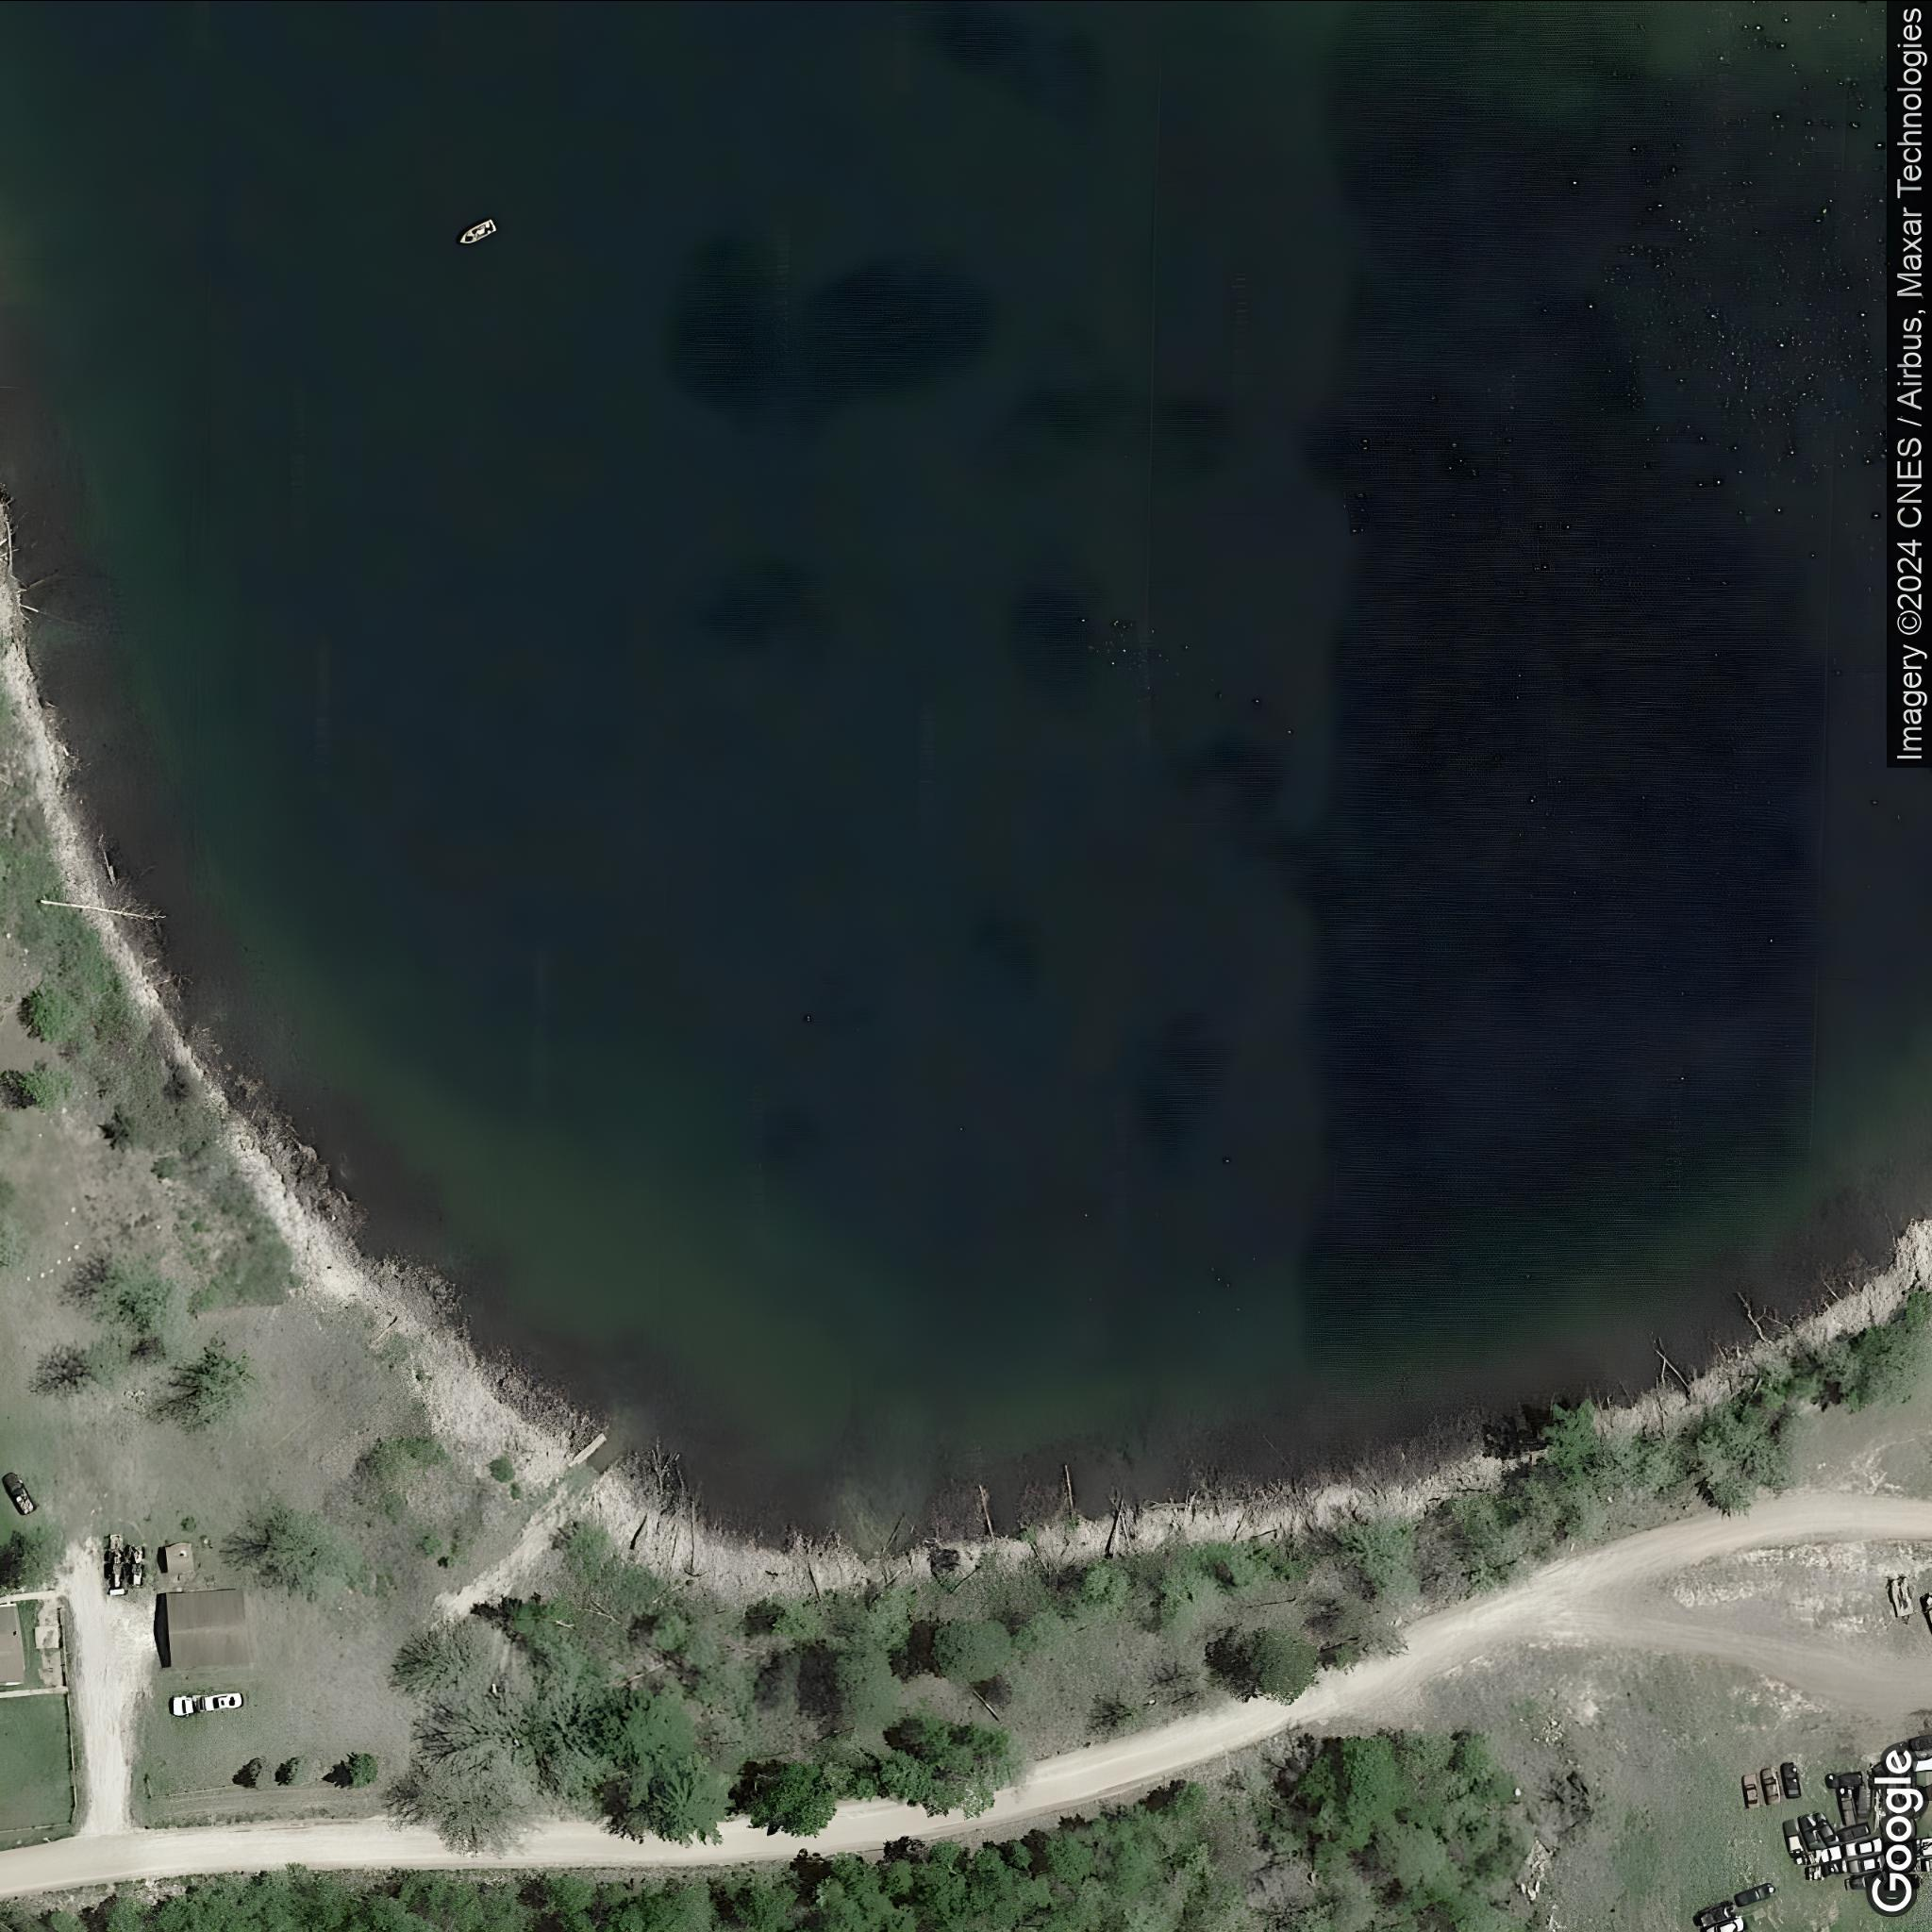Garage: (161, 1585, 253, 1668)
House: (0, 1601, 28, 1684)
Propane: (106, 1587, 129, 1598)
